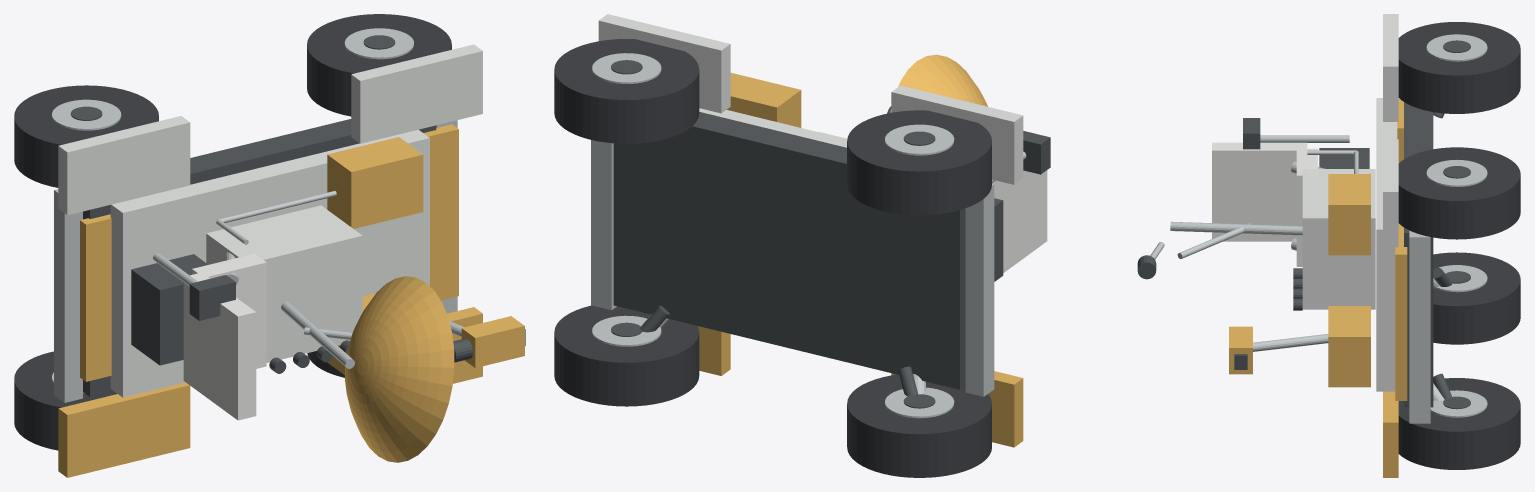
File: lunar_rover_3d_model.glb
3 renders of one model, left to right at view 1: azimuth 30°, elevation 25°; view 2: azimuth 150°, elevation 25°; view 3: azimuth 270°, elevation 25°, orthographic. The views are drawn at different scales.
Parts seen in each view (by area): view 1: Upper equipment deck, Parabolic high gain antenna, Central instrument housing, Fender 0-1, Fender 1-1, Fender 0-0, Seat back, Right gold electronics box, Wheel 0-1, Wheel 1-1, Main lower chassis, Rear gold thermal blanket (+12 smaller); view 2: Main lower chassis, Wheel 1-1, Wheel 0-1, Wheel 1-0, Wheel 0-0, Rear bumper, Fender 0-1, Fender 1-1, Front bumper, Seat back, Right gold electronics box, Parabolic high gain antenna (+9 smaller); view 3: Wheel 1-1, Wheel 0-1, Wheel 1-0, Seat back, Central instrument housing, Wheel 0-0, Upper equipment deck, Front bumper, Left gold electronics box, Right gold electronics box, Main lower chassis, Front gold thermal blanket (+15 smaller).
Boxes of the visible parts, x1=… form: Upper equipment deck: x1=110, y1=129, x2=429, y2=397; Parabolic high gain antenna: x1=345, y1=276, x2=454, y2=462; Central instrument housing: x1=206, y1=205, x2=362, y2=362; Fender 0-1: x1=58, y1=116, x2=190, y2=215; Fender 1-1: x1=351, y1=44, x2=482, y2=143; Fender 0-0: x1=58, y1=382, x2=190, y2=477; Seat back: x1=183, y1=273, x2=256, y2=420; Right gold electronics box: x1=327, y1=137, x2=423, y2=228; Wheel 0-1: x1=14, y1=85, x2=158, y2=187; Wheel 1-1: x1=307, y1=14, x2=451, y2=116; Main lower chassis: x1=83, y1=119, x2=436, y2=396; Rear gold thermal blanket: x1=80, y1=214, x2=111, y2=381; Main lower chassis: x1=613, y1=112, x2=965, y2=389; Wheel 1-1: x1=554, y1=39, x2=699, y2=143; Wheel 0-1: x1=847, y1=110, x2=991, y2=215; Wheel 1-0: x1=554, y1=305, x2=699, y2=406; Wheel 0-0: x1=847, y1=374, x2=991, y2=477; Rear bumper: x1=965, y1=183, x2=994, y2=396; Fender 0-1: x1=891, y1=85, x2=1023, y2=184; Fender 1-1: x1=598, y1=14, x2=730, y2=113; Front bumper: x1=591, y1=140, x2=616, y2=310; Seat back: x1=992, y1=170, x2=1047, y2=272; Right gold electronics box: x1=727, y1=73, x2=801, y2=127; Parabolic high gain antenna: x1=890, y1=54, x2=987, y2=112; Wheel 1-1: x1=1398, y1=147, x2=1520, y2=239; Wheel 0-1: x1=1398, y1=22, x2=1520, y2=113; Wheel 1-0: x1=1398, y1=378, x2=1520, y2=469; Seat back: x1=1212, y1=142, x2=1307, y2=241; Central instrument housing: x1=1302, y1=169, x2=1375, y2=309; Wheel 0-0: x1=1433, y1=252, x2=1520, y2=344; Upper equipment deck: x1=1376, y1=98, x2=1397, y2=391; Front bumper: x1=1409, y1=230, x2=1430, y2=423; Left gold electronics box: x1=1328, y1=306, x2=1370, y2=387; Right gold electronics box: x1=1328, y1=174, x2=1370, y2=255; Main lower chassis: x1=1404, y1=102, x2=1433, y2=407; Front gold thermal blanket: x1=1395, y1=223, x2=1407, y2=400.
Bounding box in the file's own units: 3.2 × 2.38 × 3.33.
